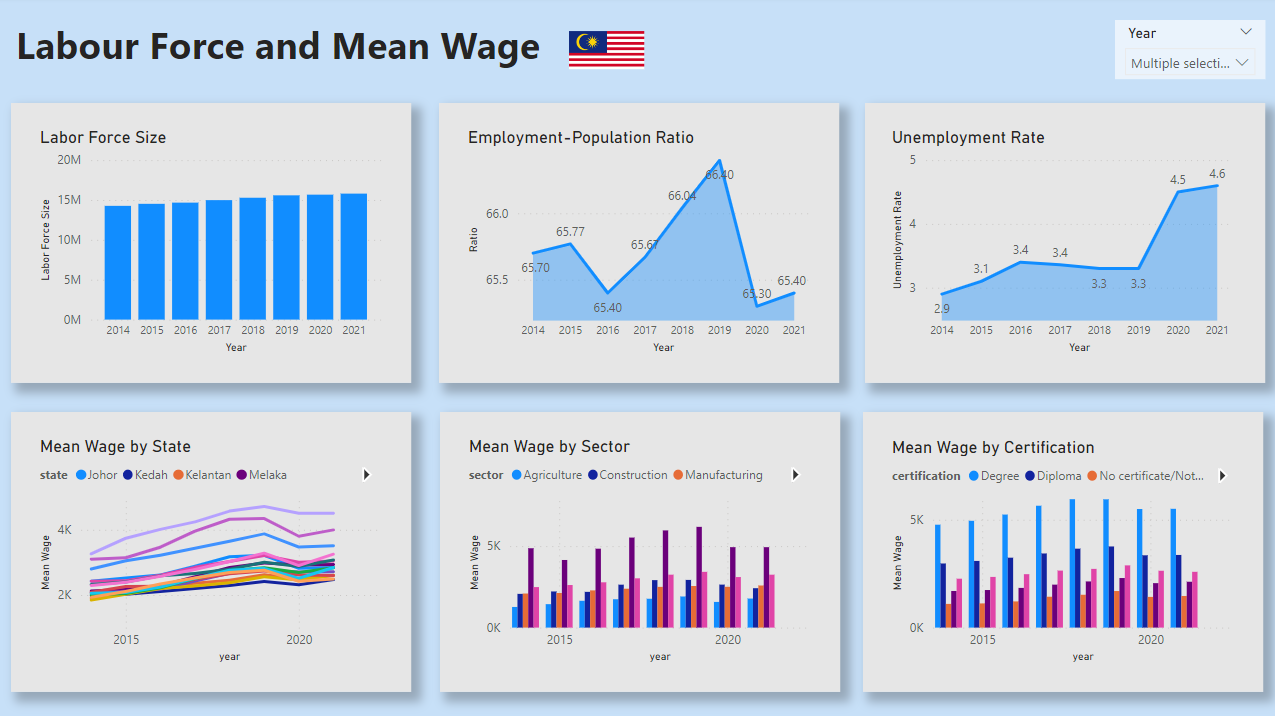

This screenshot's page, from the dashboard's own definition file:
{"tool":"powerbi","page":{"name":"Page 1","canvas":[1280,720],"ordinal":0},"visuals":[{"type":"shape","box":[862.3,413.7,398.8,279.1],"z":0},{"type":"shape","box":[440.6,413.7,398.8,279.1],"z":1000},{"type":"shape","box":[13,413.7,398.8,279.1],"z":2000},{"type":"shape","box":[864.3,105.7,398.8,279.1],"z":3000},{"type":"shape","box":[13,105.7,398.8,279.1],"z":4000},{"type":"shape","box":[439.6,105.7,398.8,279.1],"z":5000},{"type":"clusteredColumnChart","title":"Labor Force Size","fields":{"Category":["year.Year"],"Y":["Measure.Labor Force Size"]},"box":[36.9,129.6,349.9,230.3],"z":6000},{"type":"areaChart","title":"Unemployment Rate","fields":{"Category":["year.Year"],"Y":["Sum(labour-principalstats-annual.Unemployment Rate)"]},"box":[886.2,129.6,349.9,230.3],"z":7000},{"type":"clusteredColumnChart","title":"Mean Wage by Sector","fields":{"Category":["salaries_sector_sex.year"],"Y":["Avg(salaries_sector_sex.mean)"],"Series":["salaries_sector_sex.variable_en"]},"box":[464.5,437.6,349.9,230.3],"z":8000},{"type":"lineChart","title":"Mean Wage by State","fields":{"Category":["salaries_state_sex.year"],"Y":["Avg(salaries_state_sex.mean)"],"Series":["salaries_state_sex.variable_en"]},"box":[36.9,437.6,349.9,230.3],"z":9000},{"type":"clusteredColumnChart","title":"Mean Wage by Certification","fields":{"Category":["salaries_certification_sex.year"],"Y":["Avg(salaries_certification_sex.mean)"],"Series":["salaries_certification_sex.variable_en"]},"box":[886.2,438.6,349.9,229.3],"z":10000},{"type":"areaChart","title":"Employment-Population Ratio","fields":{"Category":["year.Year"],"Y":["Sum(labour-principalstats-annual.ep_ratio)"]},"box":[463.6,129.6,349.9,230.3],"z":11000},{"type":"slicer","fields":{"Values":["year.Year"]},"box":[1113.5,22.9,149.5,58.8],"z":12000},{"type":"textbox","box":[13,16.9,672.9,123.6],"z":13000},{"type":"image","box":[564.2,13,84.7,79.8],"z":14000}]}

Visuals, with their boxes in screenshot pixels (x1, y1, x2, y2), scaled from the page's 1280x720 canvas onto the 1275x716 screenshot:
shape: <box>859,411,1256,689</box>
shape: <box>439,411,836,689</box>
shape: <box>13,411,410,689</box>
shape: <box>861,105,1258,383</box>
shape: <box>13,105,410,383</box>
shape: <box>438,105,835,383</box>
"Labor Force Size" clusteredColumnChart: <box>37,129,385,358</box>
"Unemployment Rate" areaChart: <box>883,129,1231,358</box>
"Mean Wage by Sector" clusteredColumnChart: <box>463,435,811,664</box>
"Mean Wage by State" lineChart: <box>37,435,385,664</box>
"Mean Wage by Certification" clusteredColumnChart: <box>883,436,1231,664</box>
"Employment-Population Ratio" areaChart: <box>462,129,810,358</box>
slicer - year.Year: <box>1109,23,1258,81</box>
textbox: <box>13,17,683,140</box>
image: <box>562,13,646,92</box>
